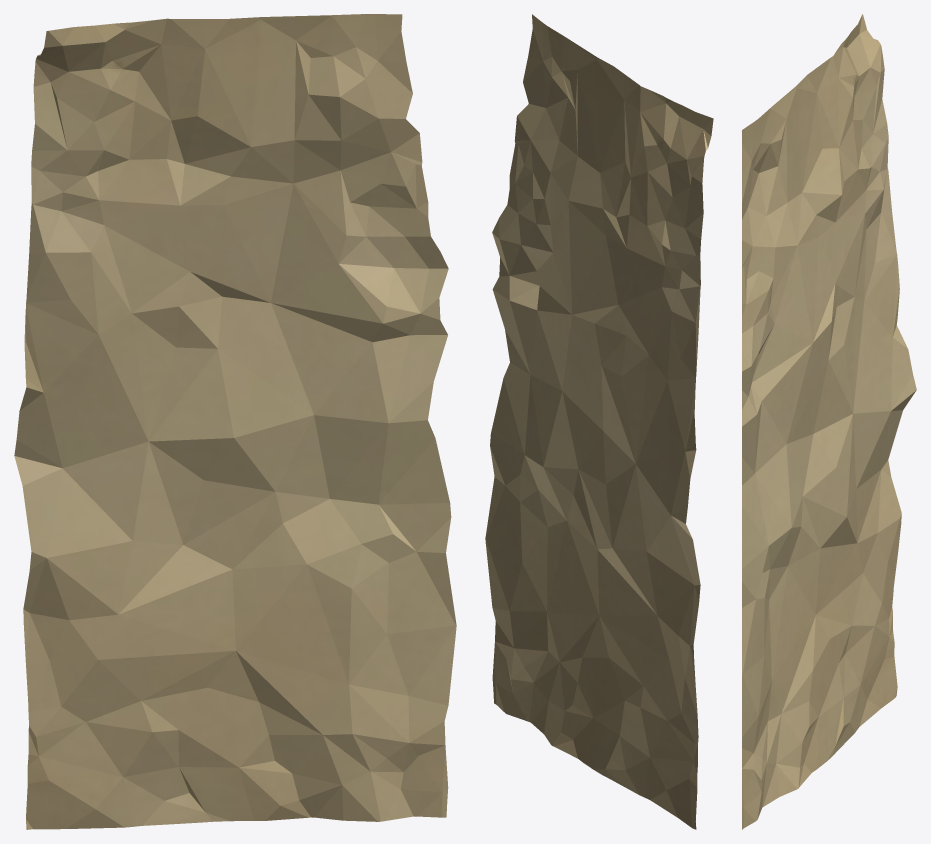
3 renders of one model, left to right at view 1: azimuth 30°, elevation 25°; view 2: azimuth 150°, elevation 25°; view 3: azimuth 270°, elevation 25°, orthographic. The views are drawn at different scales.
Bounding box in the file's own units: 0.7278 × 1.67 × 0.3891.
1 material, 1 textured.
